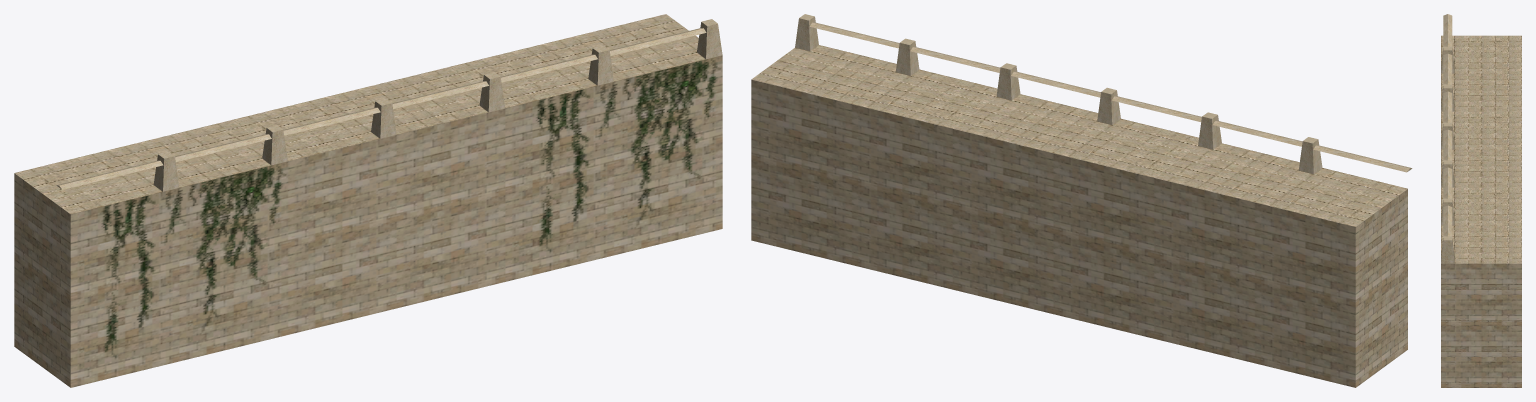
File: thm_nboo_thed_imprv_seawall_straight_s01_3seg_l3.fbx
The picture shows the model from 3 angles, left to right: view 1: azimuth 30°, elevation 25°; view 2: azimuth 150°, elevation 25°; view 3: azimuth 270°, elevation 25°; orthographic projection. The views are drawn at different scales.
Parts seen in each view (by area): view 1: mesh_node; view 2: mesh_node; view 3: mesh_node.
Boxes of the visible parts, <box> form: mesh_node: <box>14,14,722,387</box>; mesh_node: <box>751,14,1412,387</box>; mesh_node: <box>1441,14,1521,387</box>.
Size of the model in its own units: 24.24 by 7.2 by 3.6.
1 material, 1 textured.
